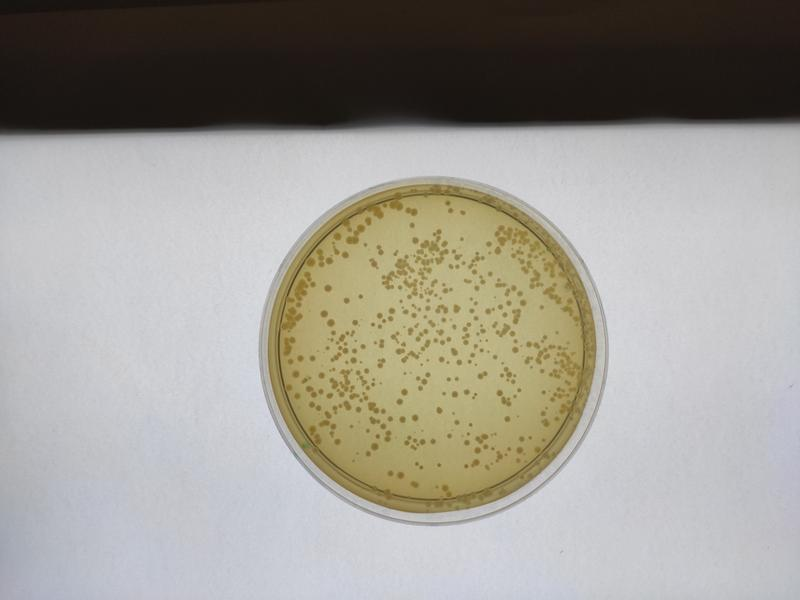colony: (319, 280, 334, 296), (396, 385, 411, 398), (433, 404, 446, 418), (499, 413, 513, 426), (535, 301, 549, 314), (457, 205, 470, 219), (340, 294, 352, 309), (430, 458, 443, 471), (315, 369, 327, 381), (410, 412, 421, 425), (406, 219, 416, 231)
